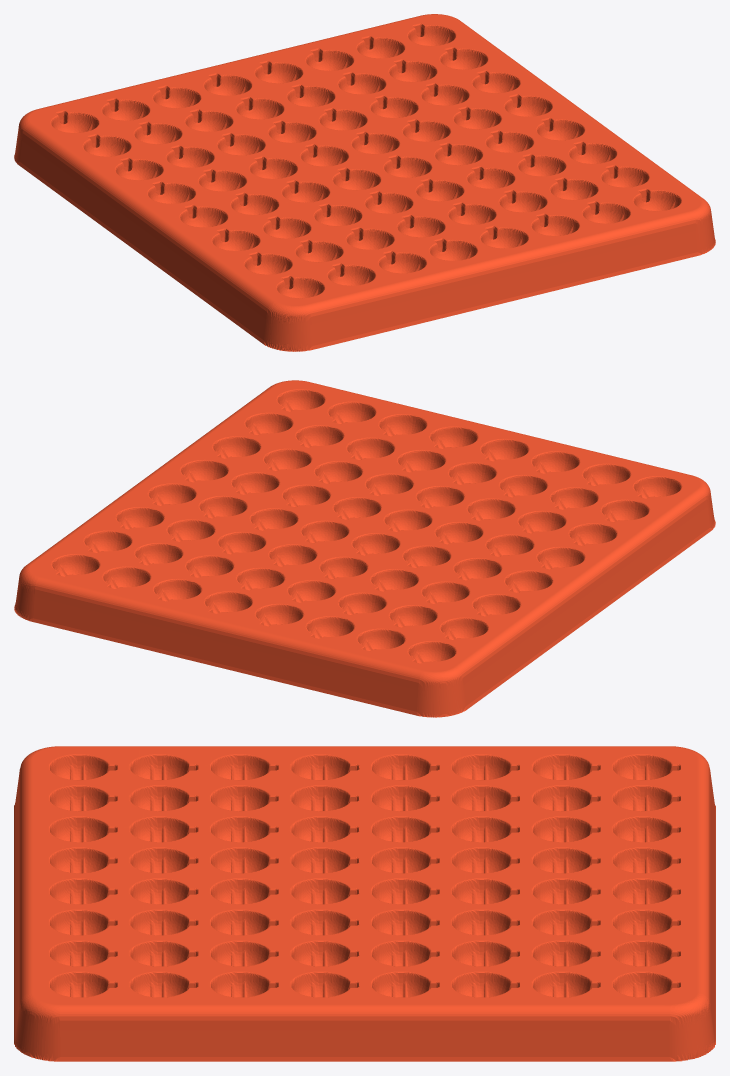
Rendered from mold.glb.
3 renders of one model, top to bottom at view 1: azimuth 30°, elevation 25°; view 2: azimuth 150°, elevation 25°; view 3: azimuth 270°, elevation 25°, orthographic. The views are drawn at different scales.
Parts seen in each view (by area): view 1: geometry_0; view 2: geometry_0; view 3: geometry_0.
Part boxes in pixels (<box>): geometry_0: <box>14,14,715,351</box>; geometry_0: <box>14,380,715,717</box>; geometry_0: <box>14,746,715,1061</box>.
Size of the model in its own units: 0.1247 by 0.0105 by 0.1355.
